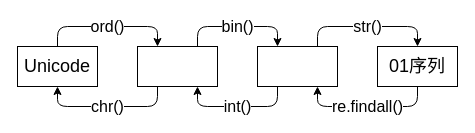
Some shapes in this 475 by 133 pixel diagram are drawn without their labels. Each missing label, with the centre of its shape:
"二进制" belongs at point 297,66.
"十进制" belongs at point 177,66.
